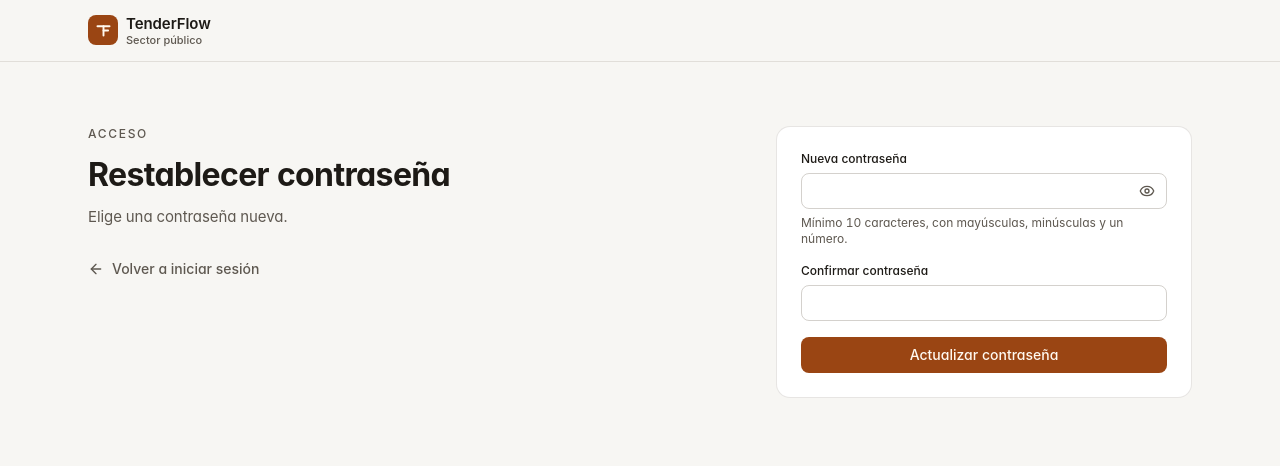
PasswordResetPage › un error de la API al confirmar se anuncia y queda enlazado a los campos
Type "NuevaClave-2026-Segura" into the password field labelled "Nueva contraseña" at point(984, 191), box left=801, top=173, right=1167, bottom=209
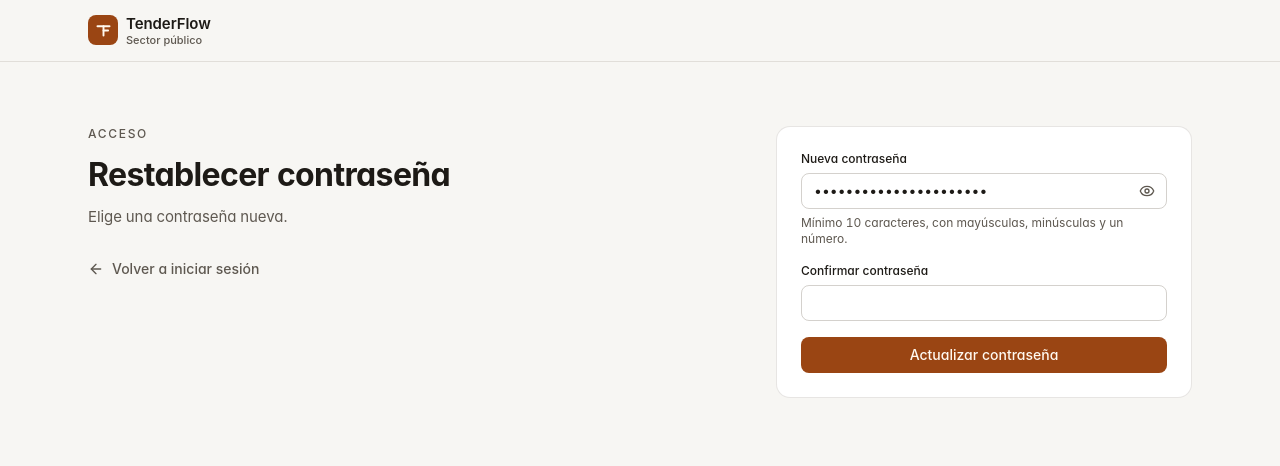
Type "NuevaClave-2026-Segura" into the password field labelled "Confirmar contraseña" at point(984, 303), box left=801, top=285, right=1167, bottom=321
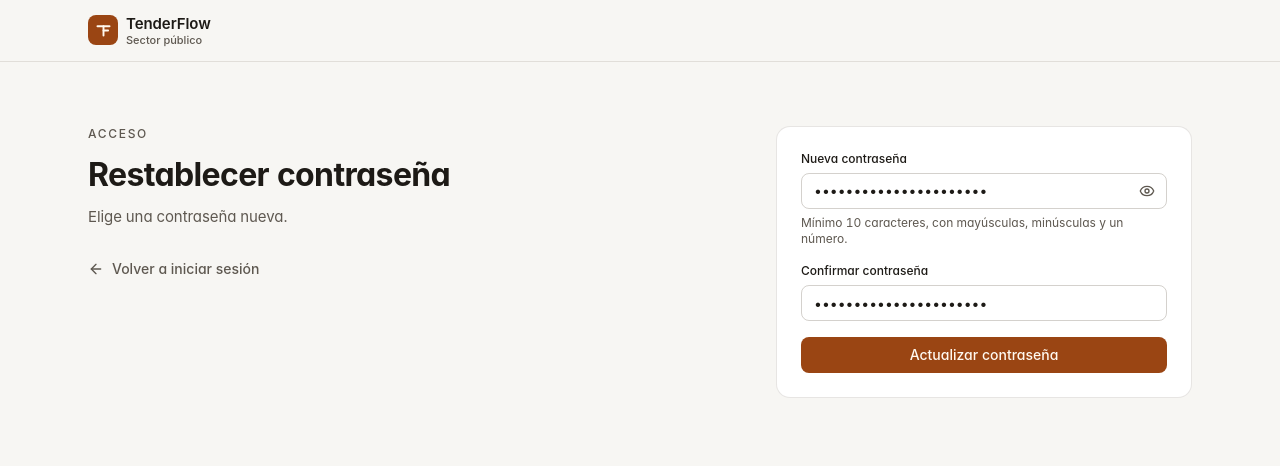
Click the button "Actualizar contraseña" at point(984, 355), box left=801, top=337, right=1167, bottom=373
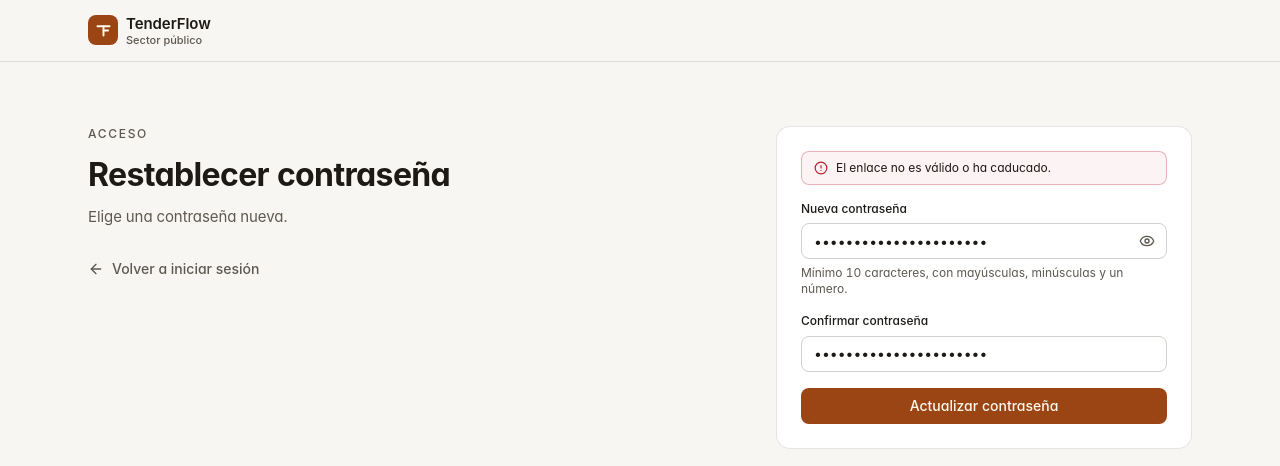
Now the message reads "El enlace no es válido o ha caducado.", box left=836, top=160, right=1051, bottom=175
